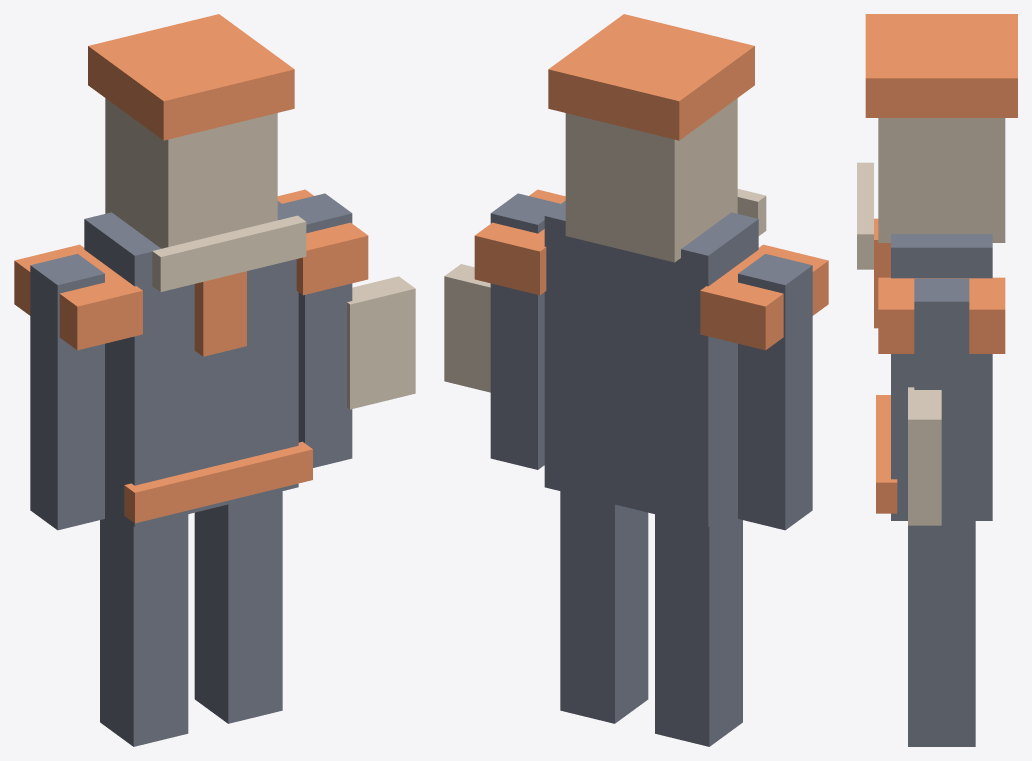
The model's file is 07_keir_dubwater_oracle_of_cargo.glb.
3 views of the same model, side by side, from view 1: azimuth 30°, elevation 25°; view 2: azimuth 150°, elevation 25°; view 3: azimuth 270°, elevation 25° (orthographic).
Parts seen in each view (by area): view 1: Keir Dubwater, Oracle of Cargo; view 2: Keir Dubwater, Oracle of Cargo; view 3: Keir Dubwater, Oracle of Cargo.
Boxes of the visible parts, x1,y1,x2,y2 form: Keir Dubwater, Oracle of Cargo: (14, 14, 415, 746); Keir Dubwater, Oracle of Cargo: (444, 14, 828, 746); Keir Dubwater, Oracle of Cargo: (857, 14, 1017, 746).
Bounding box in the file's own units: 0.9501 × 1.69 × 0.3703.
